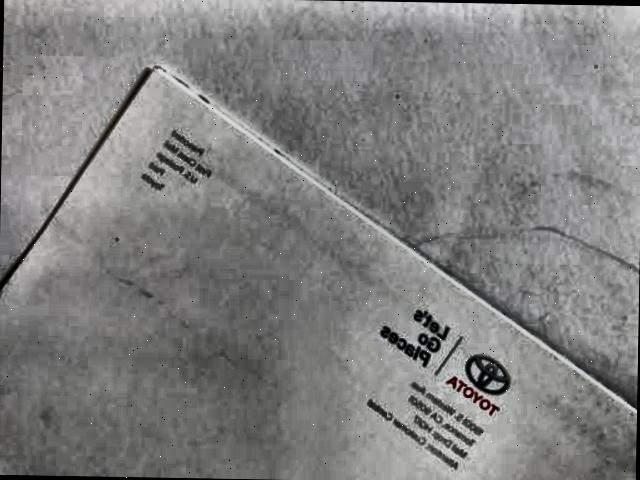Paper: (0, 64, 640, 480)
